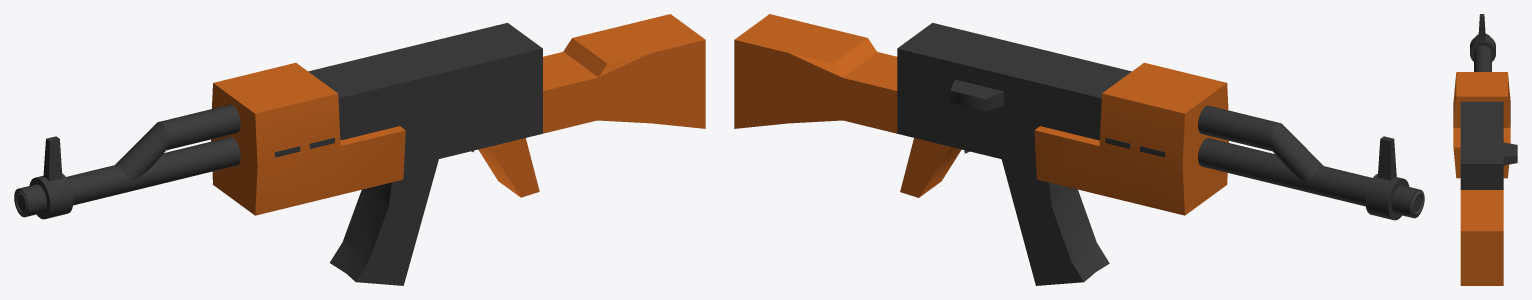
3 renders of one model, left to right at view 1: azimuth 30°, elevation 25°; view 2: azimuth 150°, elevation 25°; view 3: azimuth 270°, elevation 25°, orthographic. The views are drawn at different scales.
Parts seen in each view (by area): view 1: AKBODY, AKBODY_1, AKBODY_2, Boole_1, Cylinder, Cylinder_1, AKBODY_4, Cylinder_2, AKBODY_3; view 2: AKBODY, AKBODY_1, AKBODY_2, Boole_1, Cylinder, Cylinder_1, AKBODY_4, AKBODY_5, Cylinder_2, AKBODY_3; view 3: AKBODY_2, AKBODY, AKBODY_1, Cylinder_2, AKBODY_5, Cylinder_1, Cylinder, AKBODY_3.
Part boxes in pixels (x1,y1,x2,y2): AKBODY: (308, 23, 542, 167); AKBODY_1: (211, 62, 405, 215); AKBODY_2: (543, 14, 705, 133); Boole_1: (330, 159, 438, 285); Cylinder: (14, 137, 240, 217); Cylinder_1: (115, 104, 240, 180); AKBODY_4: (478, 138, 539, 197); Cylinder_2: (29, 173, 73, 219); AKBODY_3: (43, 136, 62, 181); AKBODY: (897, 23, 1131, 167); AKBODY_1: (1034, 62, 1228, 215); AKBODY_2: (734, 14, 897, 133); Boole_1: (1001, 159, 1109, 285); Cylinder: (1198, 138, 1424, 218); Cylinder_1: (1198, 105, 1323, 181); AKBODY_4: (900, 138, 961, 197); AKBODY_5: (950, 79, 1003, 111); Cylinder_2: (1365, 173, 1409, 220); AKBODY_3: (1377, 136, 1396, 180); AKBODY_2: (1460, 190, 1503, 285); AKBODY: (1460, 101, 1503, 189); AKBODY_1: (1453, 72, 1510, 178); Cylinder_2: (1470, 35, 1495, 61); AKBODY_5: (1503, 142, 1517, 165); Cylinder_1: (1474, 55, 1491, 71); Cylinder: (1474, 34, 1491, 61); AKBODY_3: (1478, 14, 1485, 40).
Bounding box in the file's own units: 1639 × 517 × 223.
